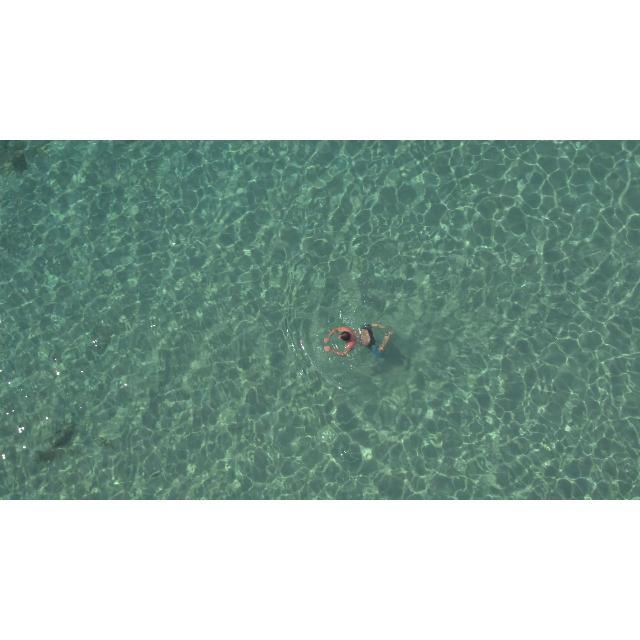human: (322, 324, 393, 359)
